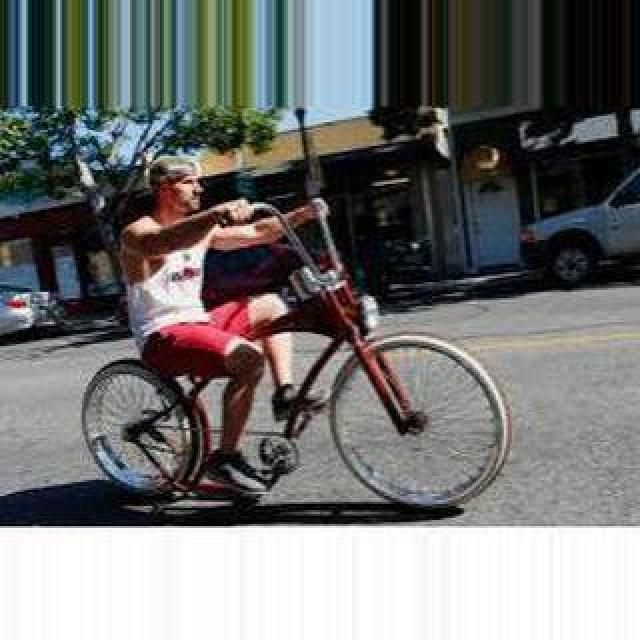Bus-Bike: (520, 162, 638, 290)
MC-Bike: (118, 152, 296, 496)
Person: (80, 212, 508, 512)
